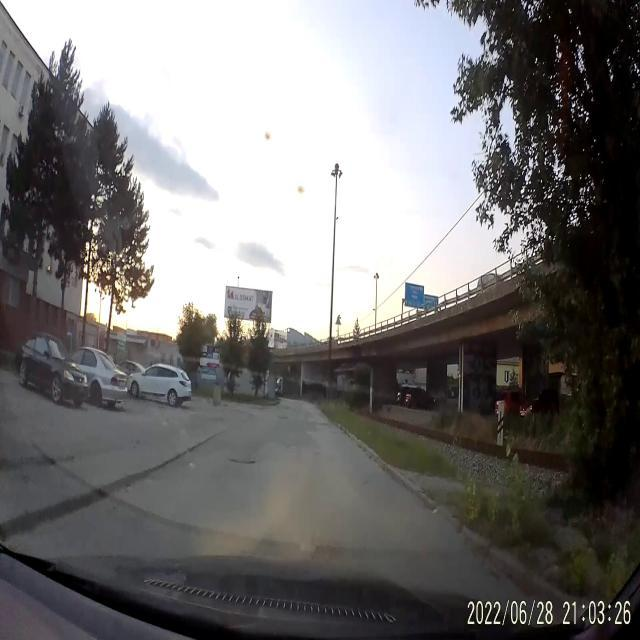Pothole: (230, 454, 256, 470)
